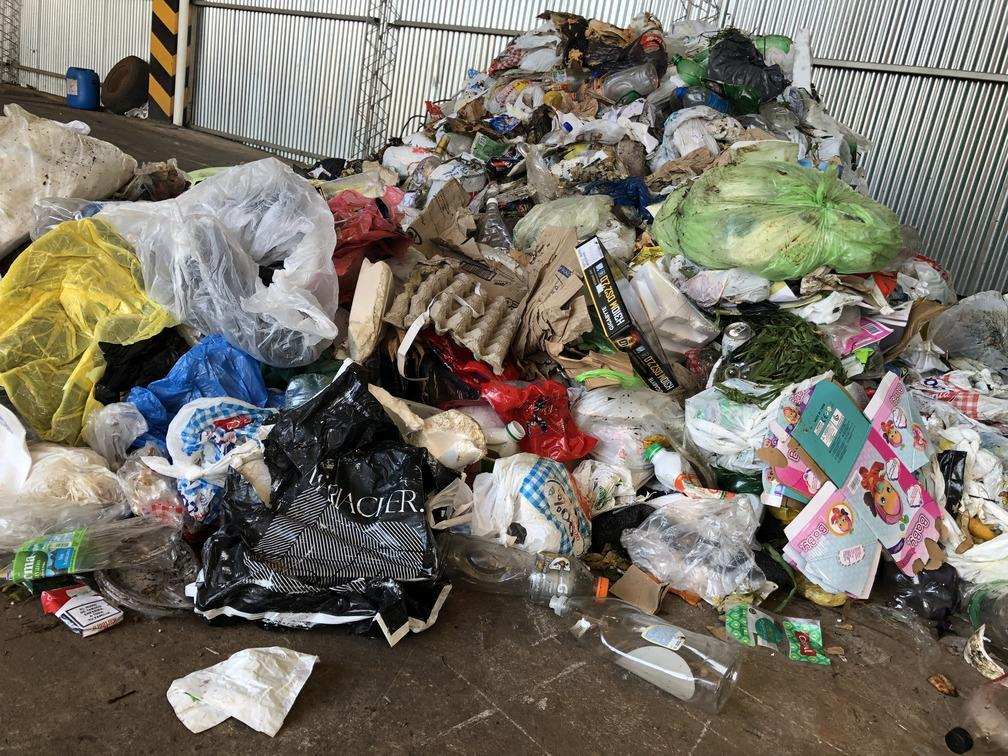bottle: (531, 575, 748, 710), (415, 529, 617, 610), (0, 508, 185, 588), (400, 131, 452, 214), (639, 437, 696, 500), (476, 193, 519, 258), (582, 64, 649, 105), (317, 169, 390, 203), (523, 150, 558, 197), (665, 50, 706, 84)
